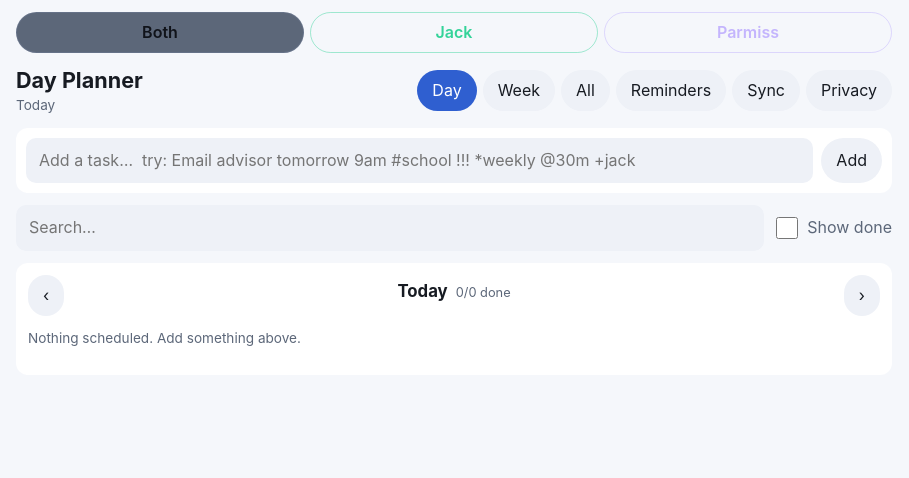
Test: App › shows the week view with seven days
What coordinates should you click on to do the following:
click the button "Week"
I would click on:
 (519, 91)
Its box is [483,70,555,111].
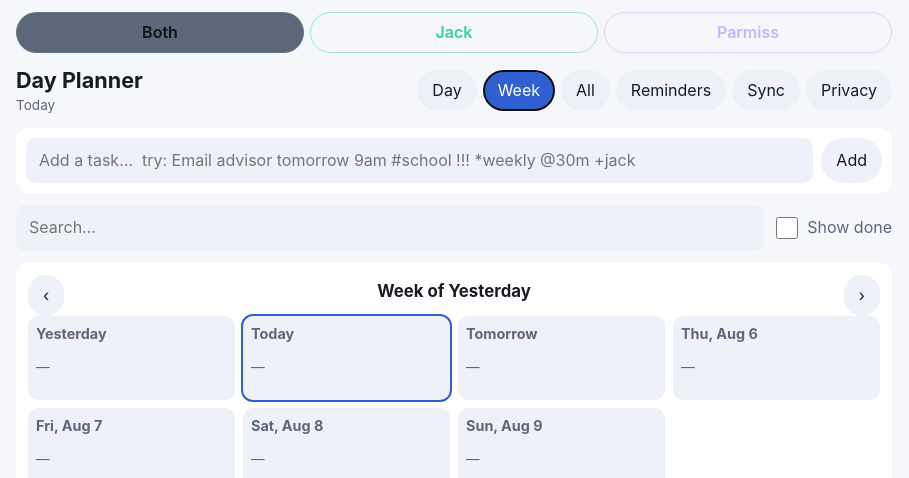
Expected: the heading "Week of Yesterday" is shown, [377,279,531,303]
